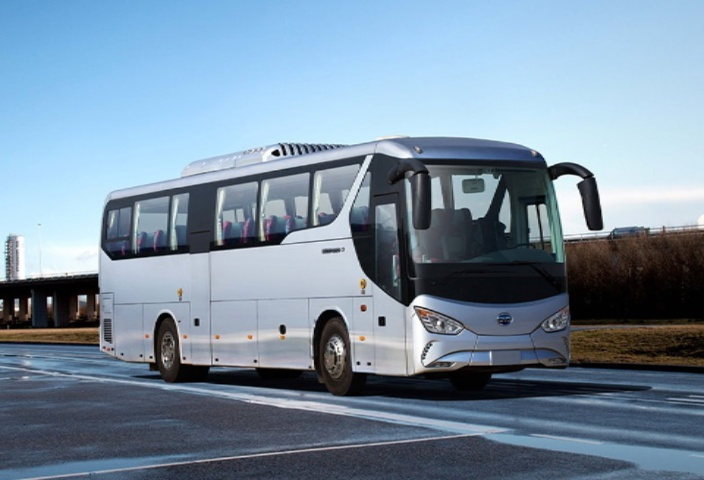bus: (75, 127, 599, 394)
